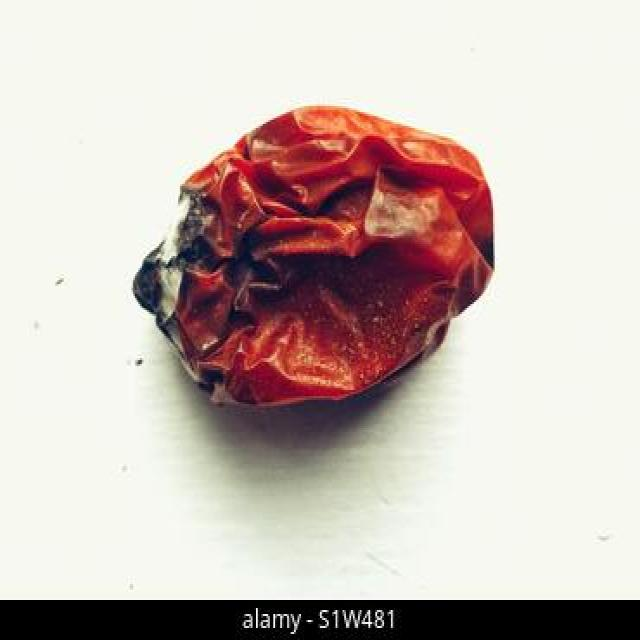Rotten: (130, 103, 494, 410)
